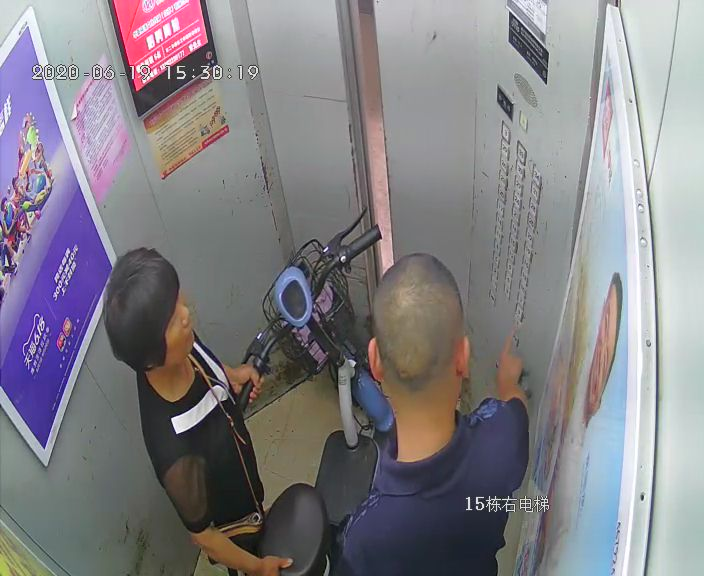Electric-bicycle: (235, 208, 390, 572)
